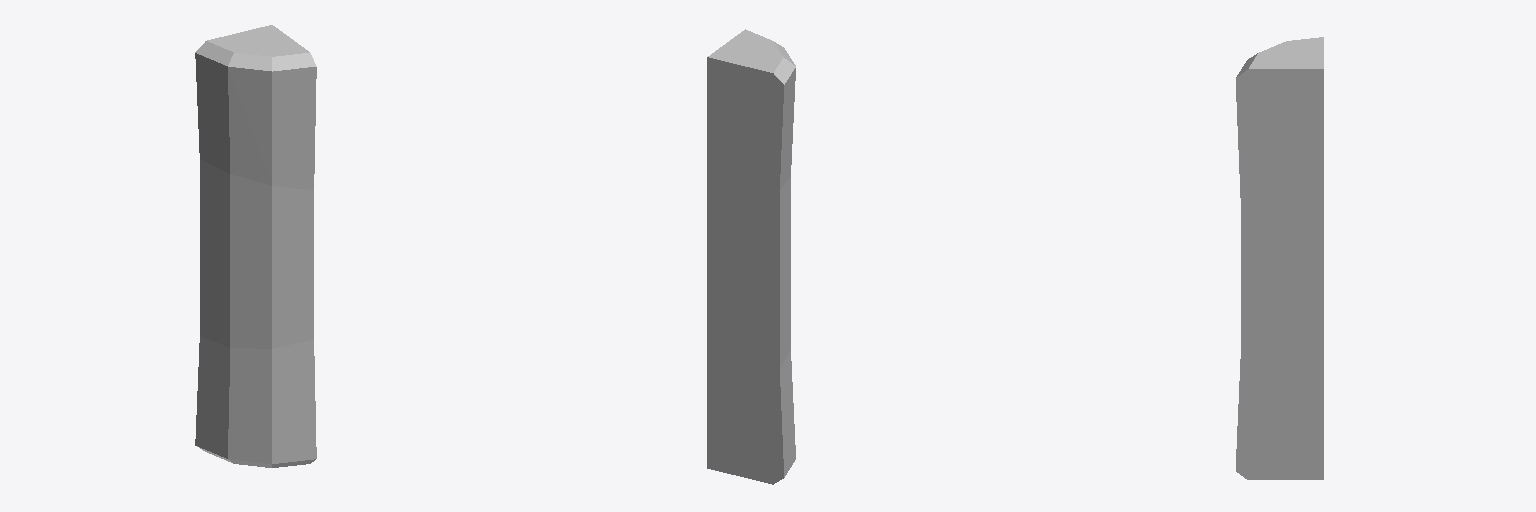
The model's file is log_split.obj.
The picture shows the model from 3 angles: view 1: azimuth 30°, elevation 25°; view 2: azimuth 150°, elevation 25°; view 3: azimuth 270°, elevation 25°; orthographic projection.
Visible parts, largest first — view 1: log_split_Cylinder.064; view 2: log_split_Cylinder.064; view 3: log_split_Cylinder.064.
Part boxes in pixels (bbox=[...]): log_split_Cylinder.064: bbox=[195, 25, 316, 467]; log_split_Cylinder.064: bbox=[707, 29, 795, 484]; log_split_Cylinder.064: bbox=[1236, 37, 1323, 479].
Bounding box in the file's own units: 0.2093 × 1.07 × 0.2093.